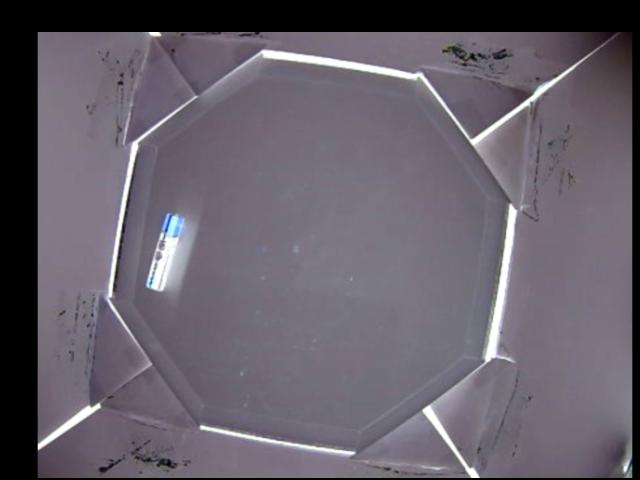Battery: (145, 211, 183, 292)
